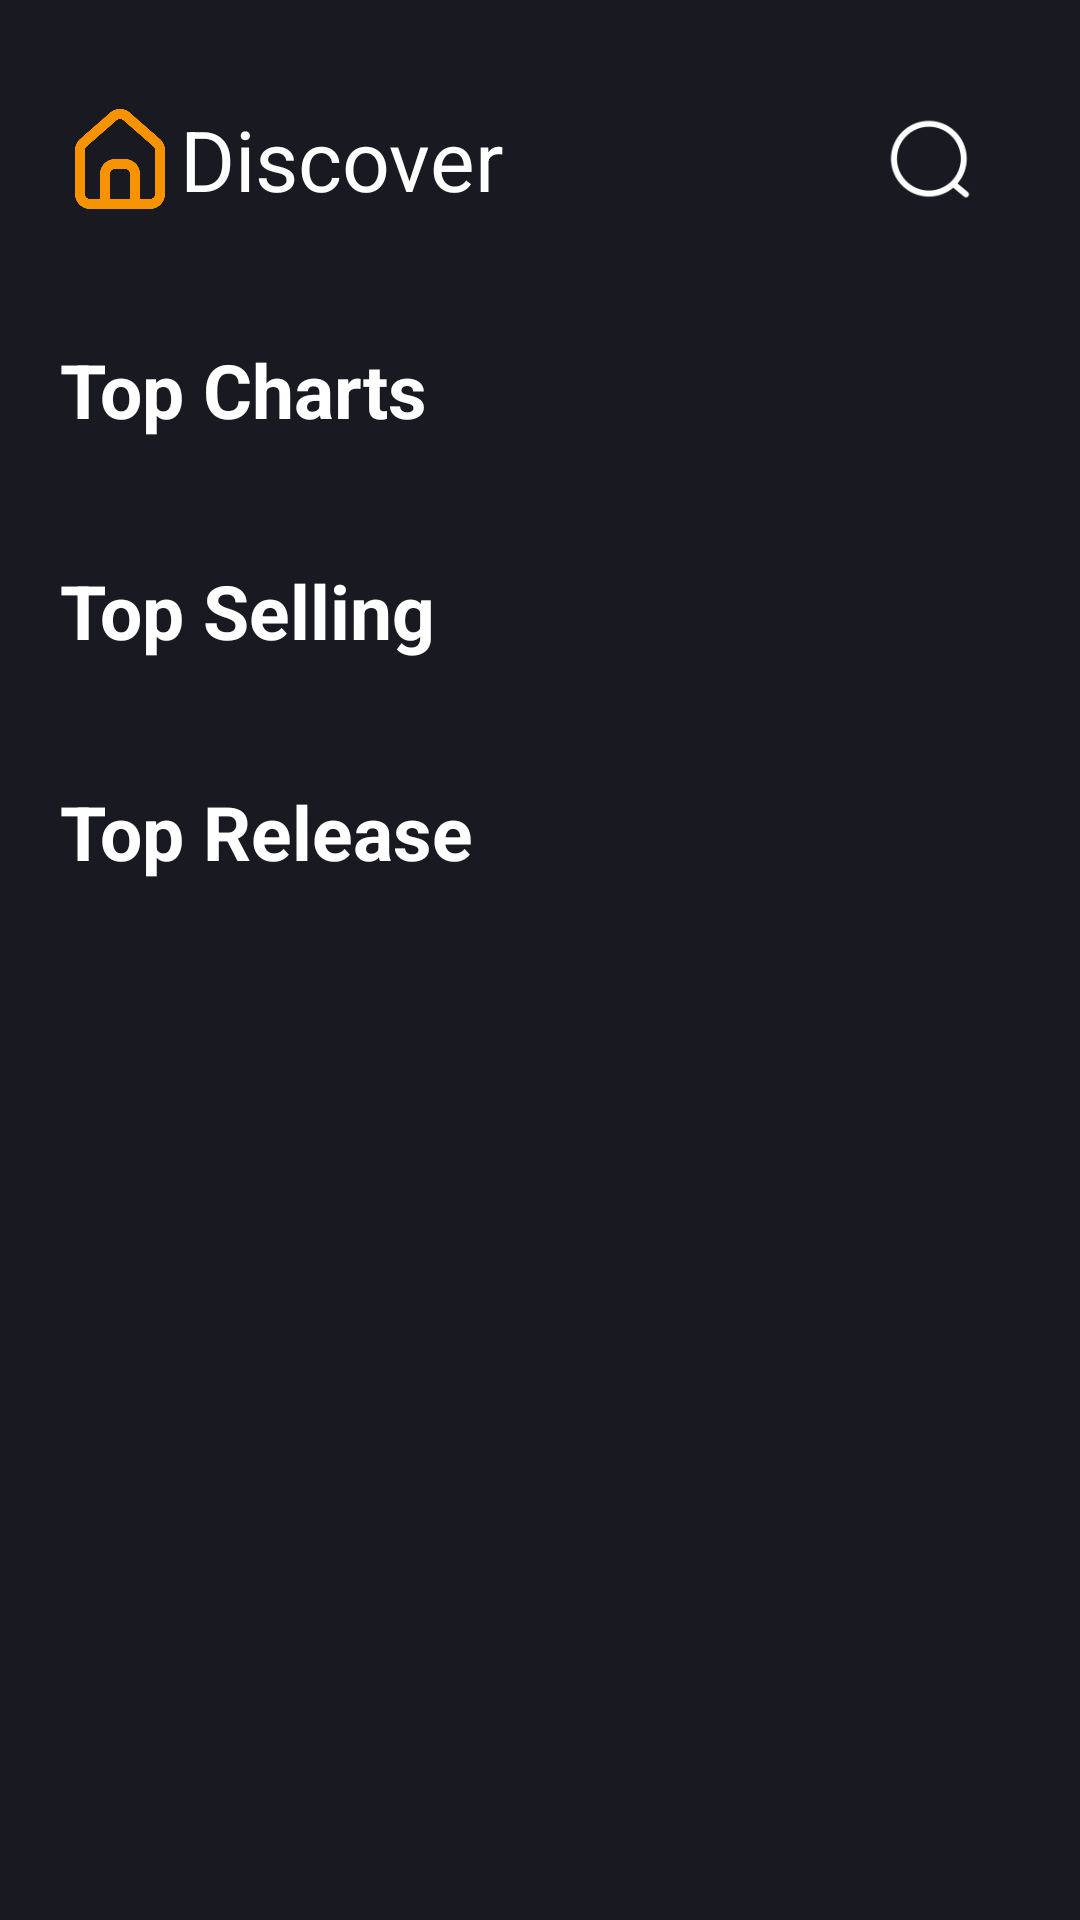

Where icons sit on this 1080×1920 app screen, as (x1, y1, x2, y2):
search: (890, 120, 970, 198)
